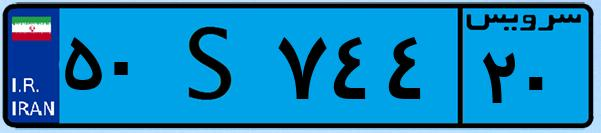0: (525, 38, 570, 115), (110, 28, 158, 98)
2: (475, 38, 525, 113)
4: (385, 28, 445, 110), (330, 28, 385, 110)
5: (57, 26, 110, 100)
7: (270, 28, 330, 110)
S: (158, 12, 270, 120)
